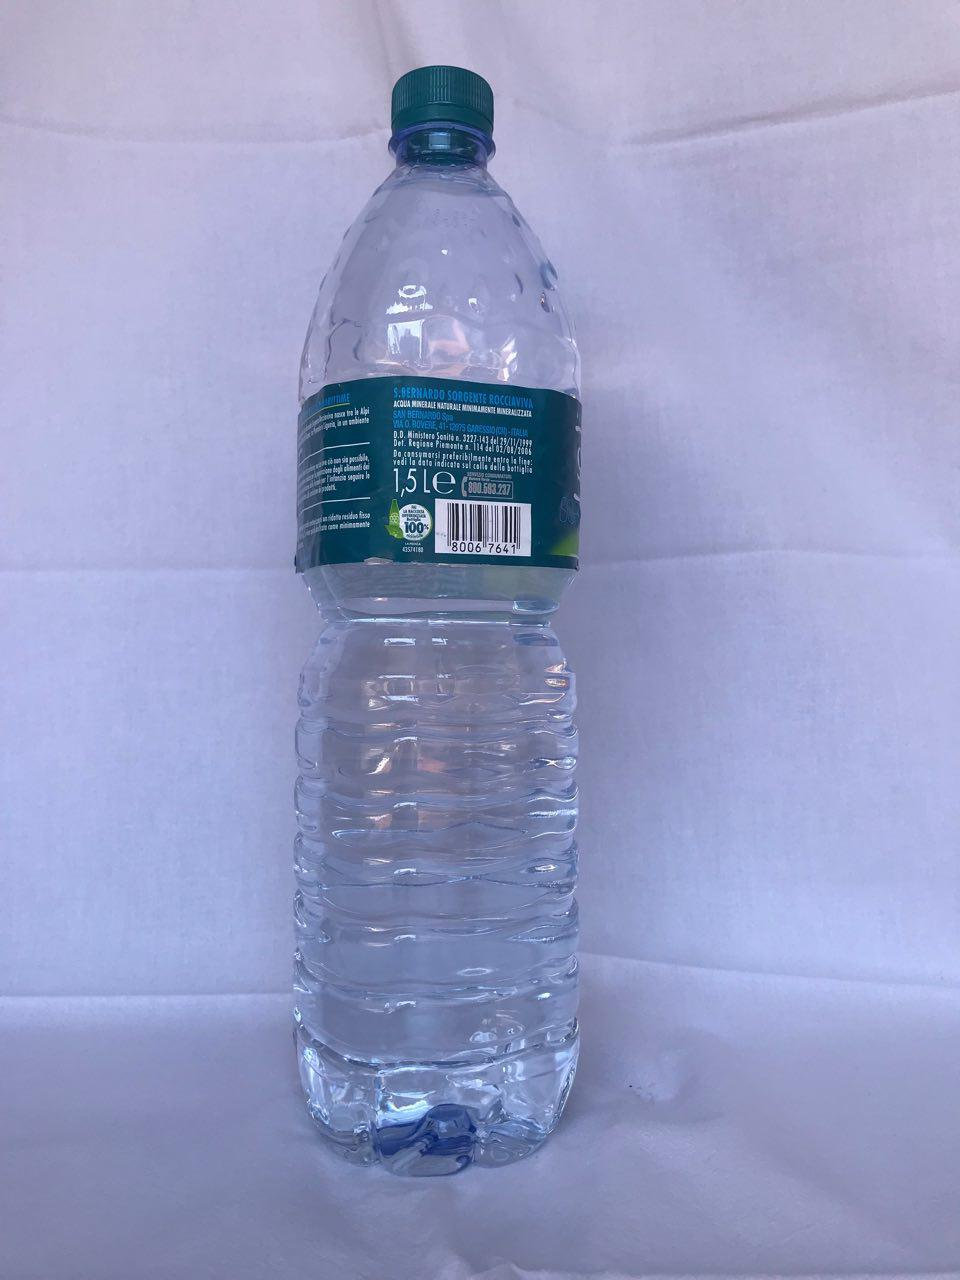san_bernardo: (287, 63, 585, 1178)
